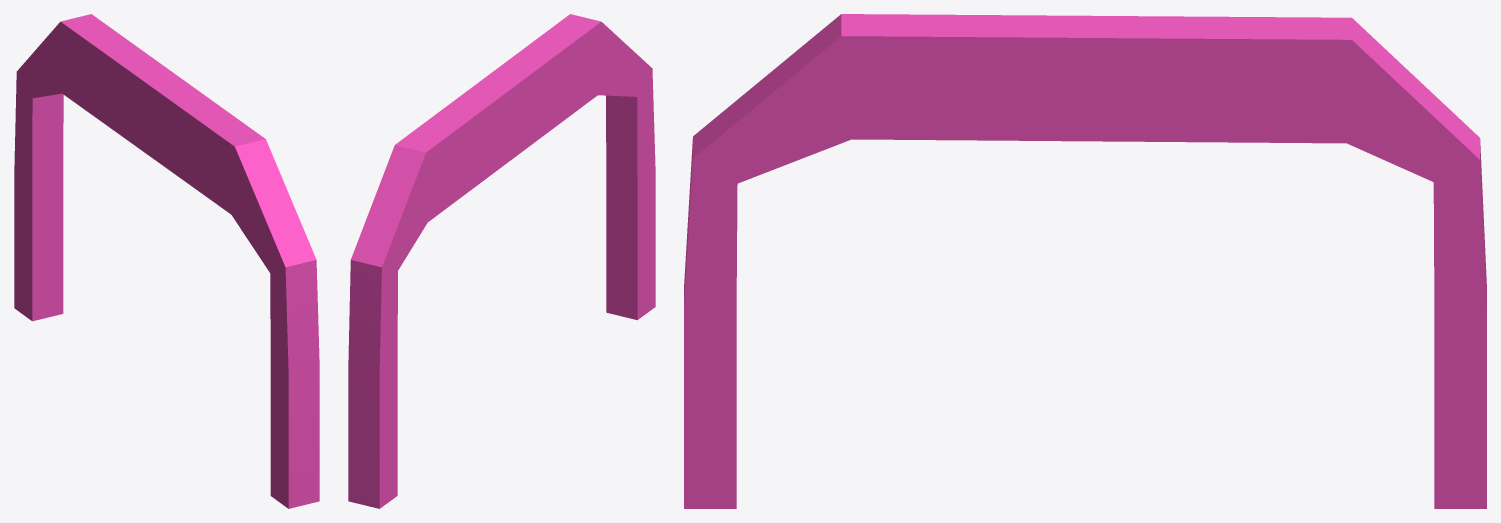
The model's file is gate.obj.
The picture shows the model from 3 angles, left to right: view 1: azimuth 30°, elevation 25°; view 2: azimuth 150°, elevation 25°; view 3: azimuth 270°, elevation 25°; orthographic projection. The views are drawn at different scales.
Parts seen in each view (by area): view 1: pasted__pCube5; view 2: pasted__pCube5; view 3: pasted__pCube5.
Boxes of the visible parts, x1,y1,x2,y2 form: pasted__pCube5: (14, 14, 319, 508); pasted__pCube5: (348, 14, 655, 508); pasted__pCube5: (684, 14, 1486, 508).
Bounding box in the file's own units: 0.2479 × 2.46 × 3.79.
